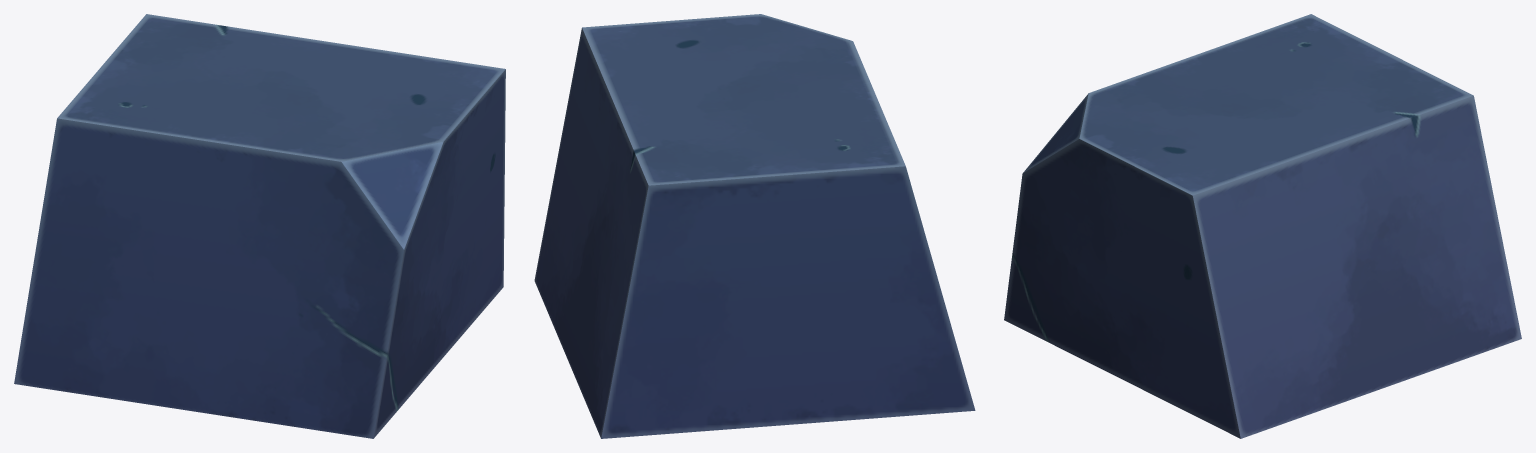
Rendered from stone_03.glb.
3 views of the same model, side by side, from view 1: azimuth 30°, elevation 25°; view 2: azimuth 150°, elevation 25°; view 3: azimuth 270°, elevation 25° (orthographic). The views are drawn at different scales.
Visible parts, largest first — view 1: Rocks.003; view 2: Rocks.003; view 3: Rocks.003.
Boxes of the visible parts, x1=… form: Rocks.003: x1=14, y1=14, x2=505, y2=438; Rocks.003: x1=534, y1=14, x2=975, y2=438; Rocks.003: x1=1004, y1=14, x2=1521, y2=438.
Size of the model in its own units: 2.82 by 1.4 by 2.82.
1 material, 1 textured.
